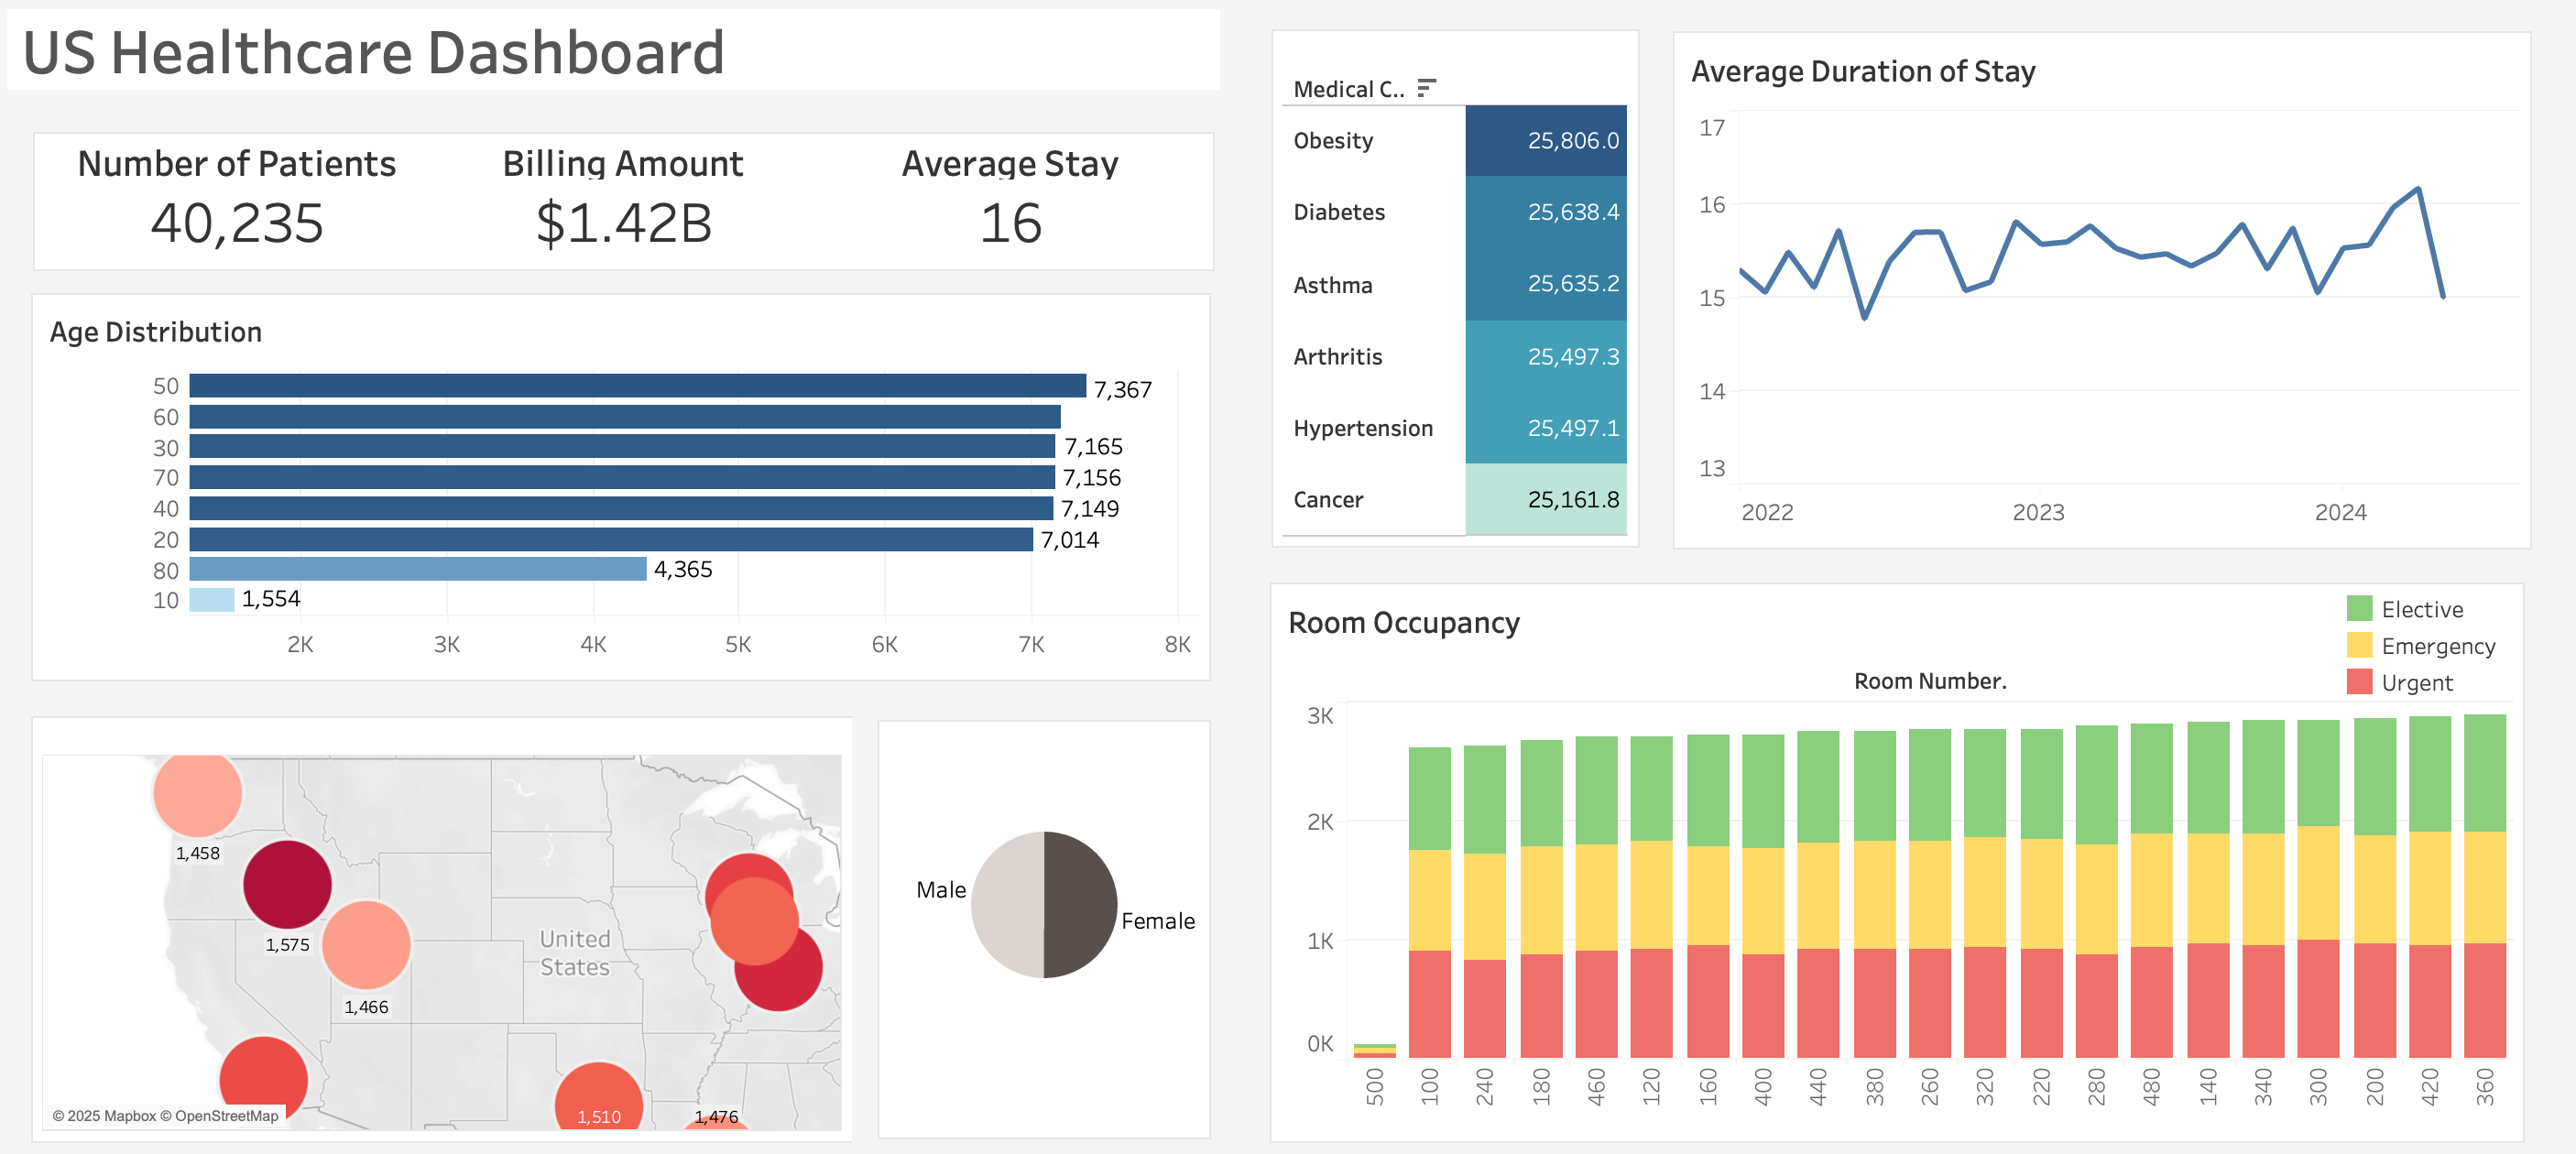

This screenshot's page, from the dashboard's own definition file:
{"tool":"tableau","page":{"name":"Dashboard","canvas":[1000,1000],"units":"permille","ordinal":0},"visuals":[{"type":"worksheet","title":"Avg Billing Amt","mark":"Square","rows":["Medical Condition"],"box":[468.4,14,143.8,345.2]},{"type":"worksheet","title":"Avg Stay Duration","mark":"Automatic","rows":["Duration of Stay"],"cols":["Date of Admission"],"box":[618,15.2,325.7,345.2]},{"type":"worksheet","title":"KPIs","mark":"Automatic","box":[8.7,80,445.5,101.5]},{"type":"worksheet","title":"Age Distribution","mark":"Bar","rows":["Age (bin)"],"cols":["Name"],"box":[7.9,184,445.2,261.4]},{"type":"legend","title":"Room Occupancy Trends","param":"[federated.1oky71n0e6j0fn1biqrrf08mq02n].[none:Admission Type:nk]","box":[869.7,359.1,90.8,97.7]},{"type":"worksheet","title":"Room Occupancy Trends","mark":"Automatic","rows":["Name"],"cols":["Room Number (bin) 2"],"box":[468.1,369.3,472.8,371.8]},{"type":"worksheet","title":"Count of Patient per City","mark":"Shape","box":[7.9,455.6,312,285.5]},{"type":"worksheet","title":"Gender","mark":"Pie","box":[322.3,458.1,130.8,281.7]}]}

Visuals, with their boxes on the dashboard's canvas, which has no fixed pixel size, in thousandths of its width and height (x1, y1, x2, y2). These are canvas units, not pixel positions in the 2576x1154 screenshot, which may show the page scaled, cropped or inside an application window:
"Avg Billing Amt" worksheet (Square marks): (468,14,612,359)
"Avg Stay Duration" worksheet: (618,15,944,360)
"KPIs" worksheet: (9,80,454,182)
"Age Distribution" worksheet (Bar marks): (8,184,453,445)
"Room Occupancy Trends" legend: (870,359,960,457)
"Room Occupancy Trends" worksheet: (468,369,941,741)
"Count of Patient per City" worksheet (Shape marks): (8,456,320,741)
"Gender" worksheet (Pie marks): (322,458,453,740)
